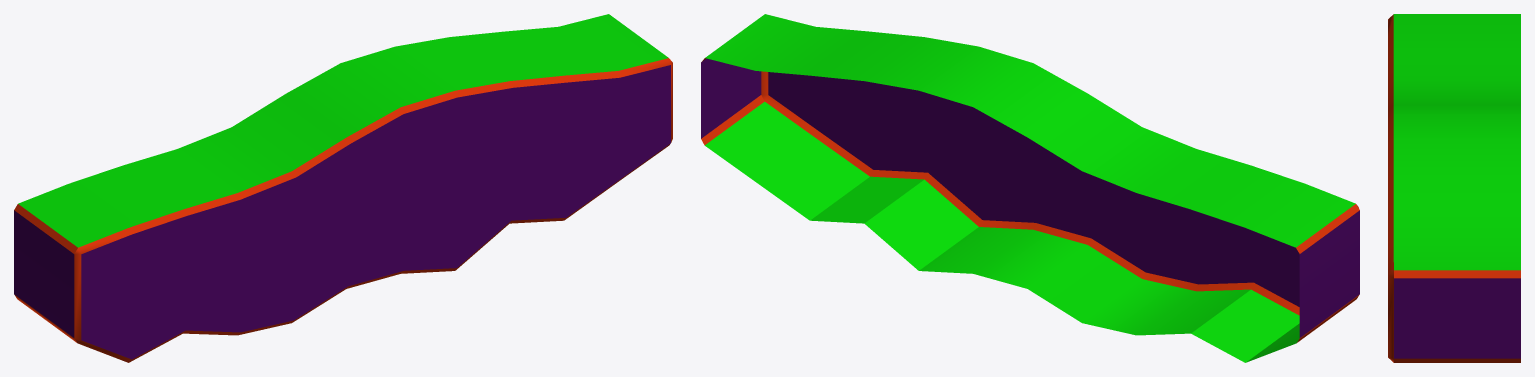
The model's file is Floating Piece 3.fbx.
The picture shows the model from 3 angles, left to right: view 1: azimuth 30°, elevation 25°; view 2: azimuth 150°, elevation 25°; view 3: azimuth 270°, elevation 25°; orthographic projection. The views are drawn at different scales.
Visible parts, largest first — view 1: Floating_piece_3; view 2: Floating_piece_3; view 3: Floating_piece_3.
Boxes of the visible parts, box(x1,y1,x2,y2) form: Floating_piece_3: box(14, 14, 672, 362); Floating_piece_3: box(701, 14, 1359, 362); Floating_piece_3: box(1388, 14, 1520, 362).
Size of the model in its own units: 11 by 3.38 by 2.
